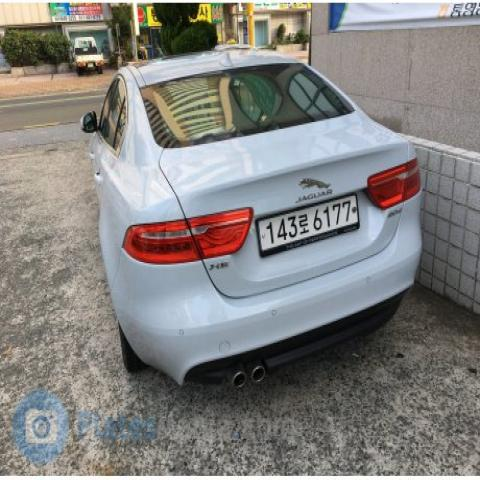LP: (252, 184, 370, 265)
